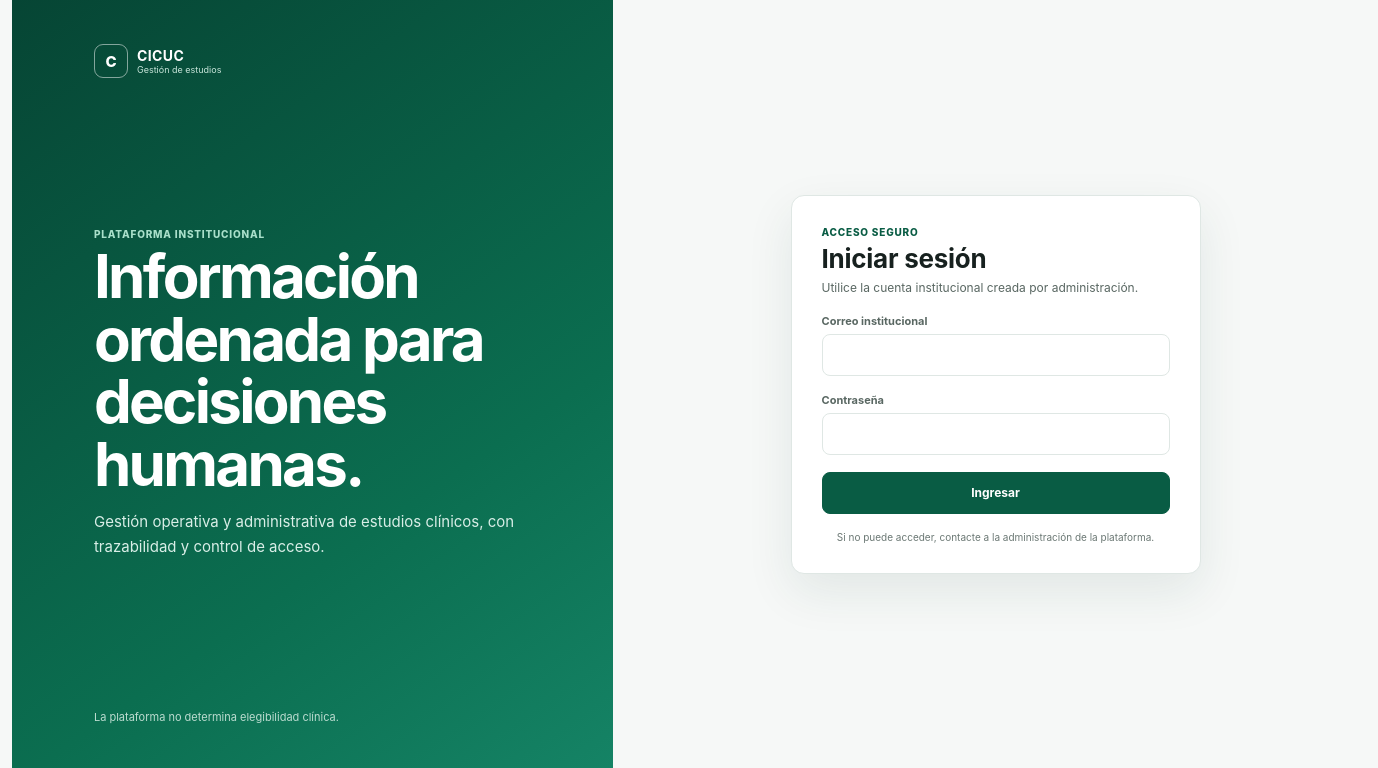
Test: Autenticación › inicia sesión y recupera la ruta solicitada
In the field labelled "Correo institucional": (996, 354) x1=822 y1=334 x2=1170 y2=376, type "admin@example.com"
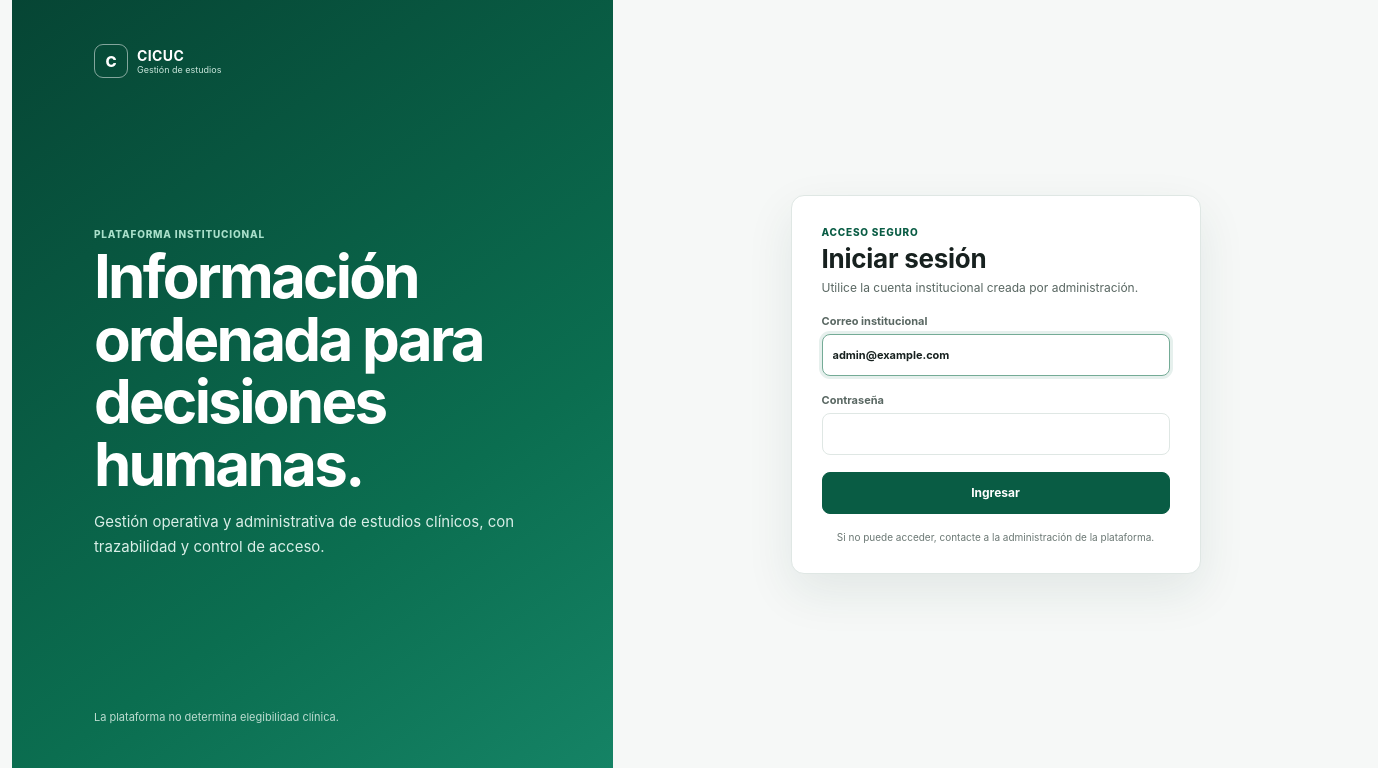
In the password field labelled "Contraseña": (996, 434) x1=822 y1=412 x2=1170 y2=454, type "Contrasena-Demo-2026"
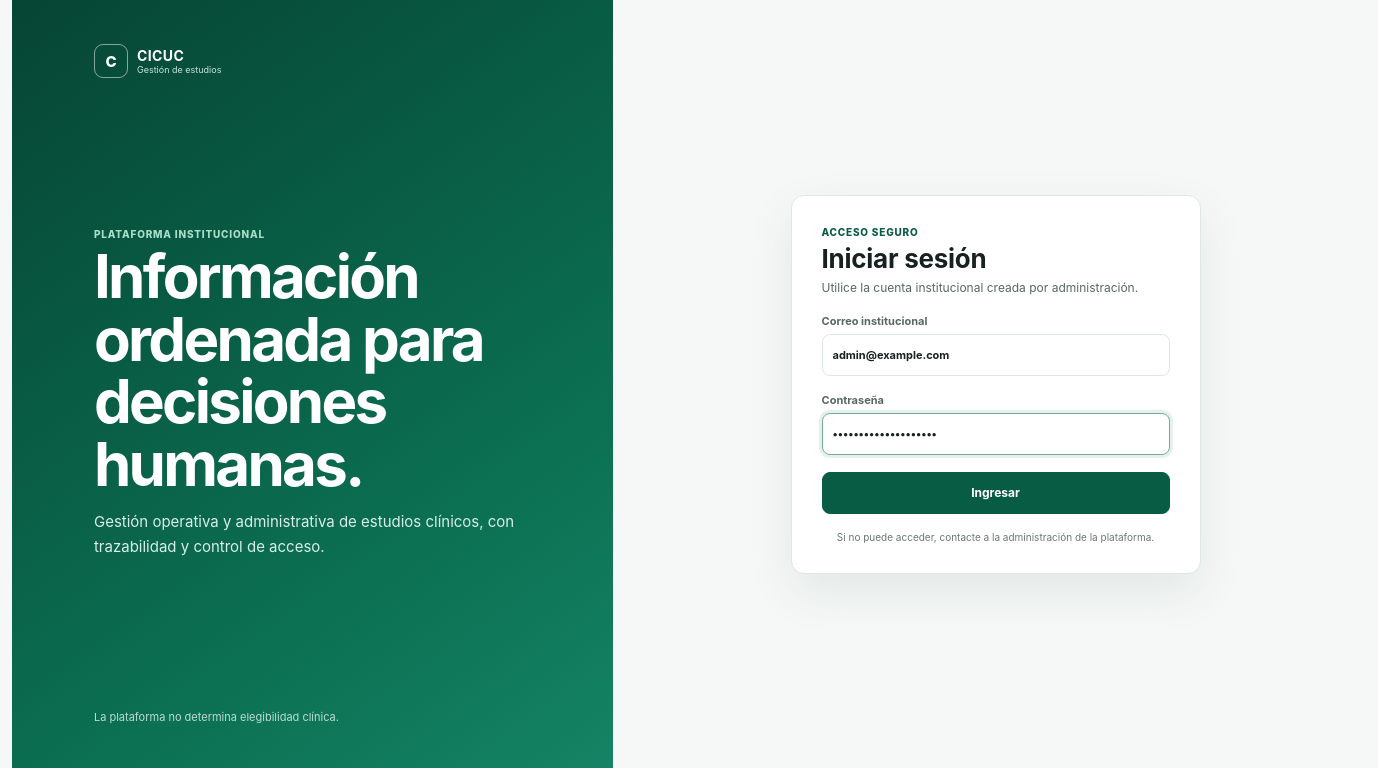
Click the button "Ingresar": (996, 492) x1=822 y1=472 x2=1170 y2=514
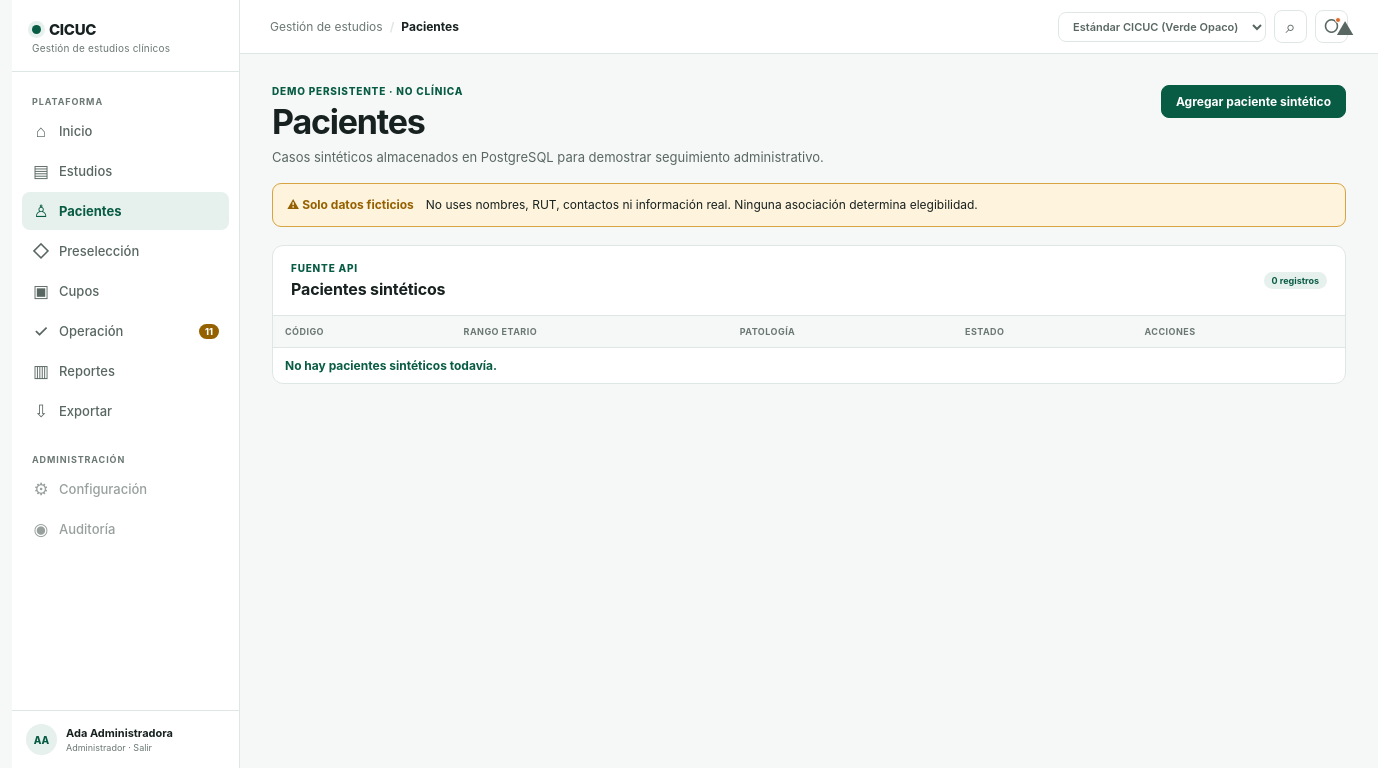
Result: the heading "Pacientes" is shown at x1=272 y1=101 x2=425 y2=142
